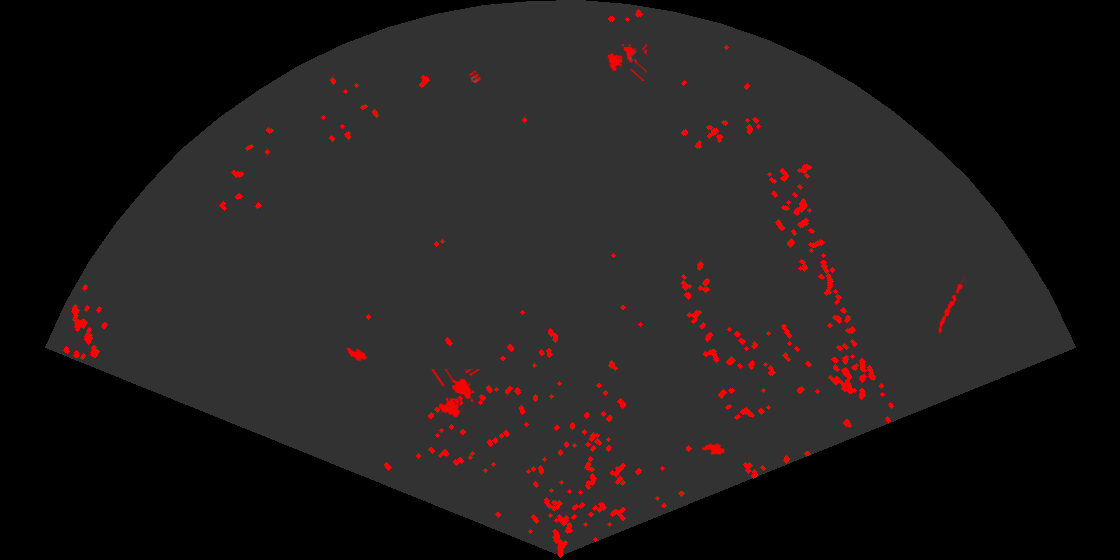AUV: (345, 346, 369, 363), (700, 442, 726, 457)
ball: (467, 69, 483, 85)
cage: (429, 369, 483, 419), (606, 42, 647, 81)
chain: (936, 277, 967, 335)
